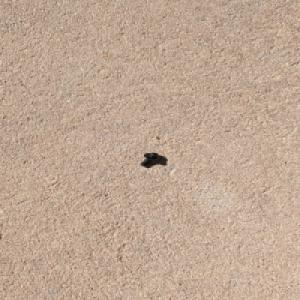BoltWasher: (139, 152, 161, 166)
